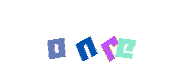E: (78, 0, 158, 80)
N: (46, 0, 126, 80)
O: (39, 0, 119, 80)
R: (49, 0, 129, 80)
